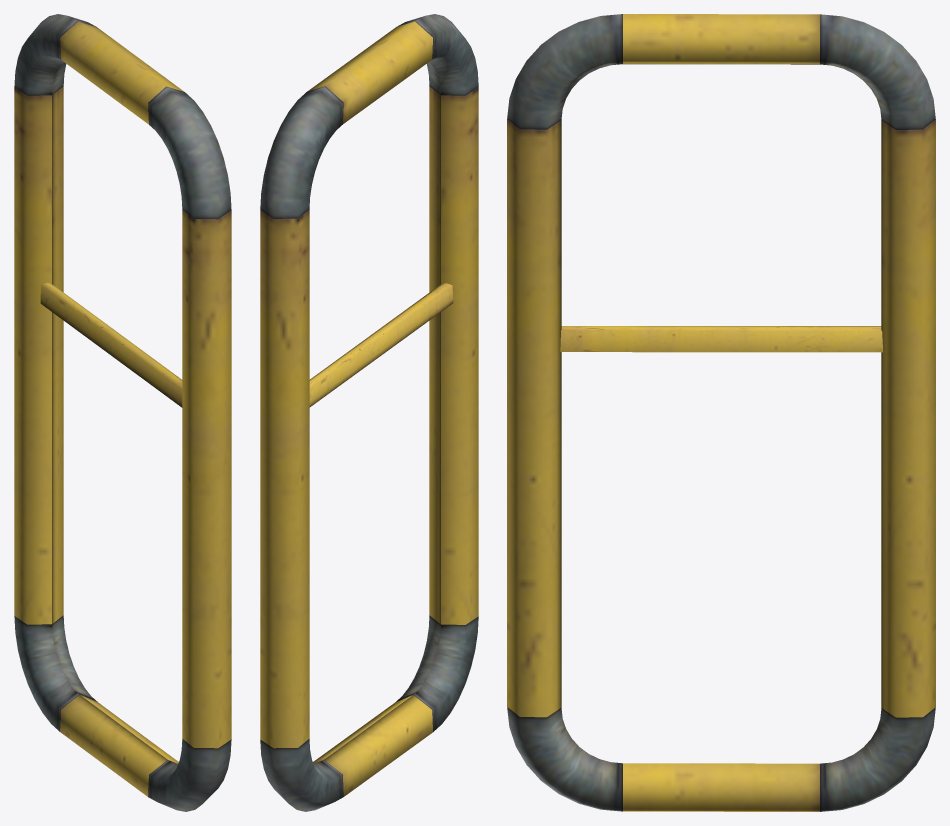
Rendered from Railing_07.fbx.
3 renders of one model, left to right at view 1: azimuth 30°, elevation 25°; view 2: azimuth 150°, elevation 25°; view 3: azimuth 270°, elevation 25°, orthographic. The views are drawn at different scales.
Visible parts, largest first — view 1: Railing_07; view 2: Railing_07; view 3: Railing_07.
Boxes of the visible parts, box(x1,y1,x2,y2) form: Railing_07: box(14, 14, 231, 811); Railing_07: box(260, 14, 478, 811); Railing_07: box(507, 14, 935, 811).
Size of the model in its own units: 5.49 by 97.99 by 47.74.
Materials: 1 (1 with a texture image).
